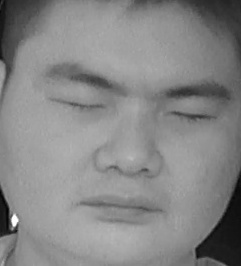blink: (51, 88, 108, 120), (170, 101, 216, 130)
mouth: (80, 186, 166, 231)
